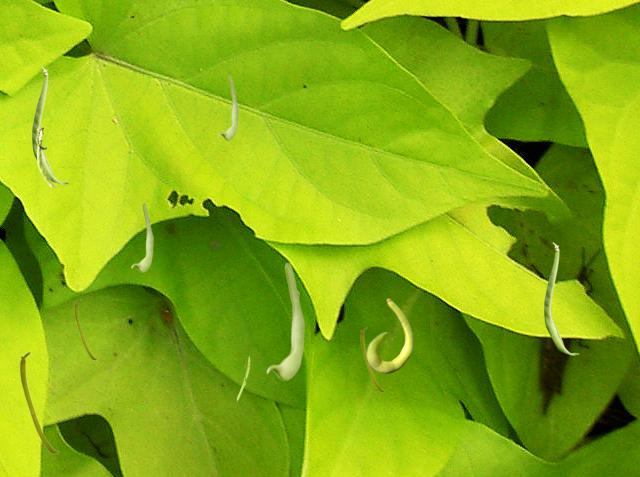french_bean: (266, 262, 303, 379), (32, 66, 68, 183), (19, 351, 58, 453), (544, 242, 578, 354), (366, 298, 412, 372), (360, 327, 384, 391), (131, 202, 152, 271), (74, 299, 96, 359), (218, 75, 237, 139), (36, 126, 54, 186), (236, 355, 249, 405)
